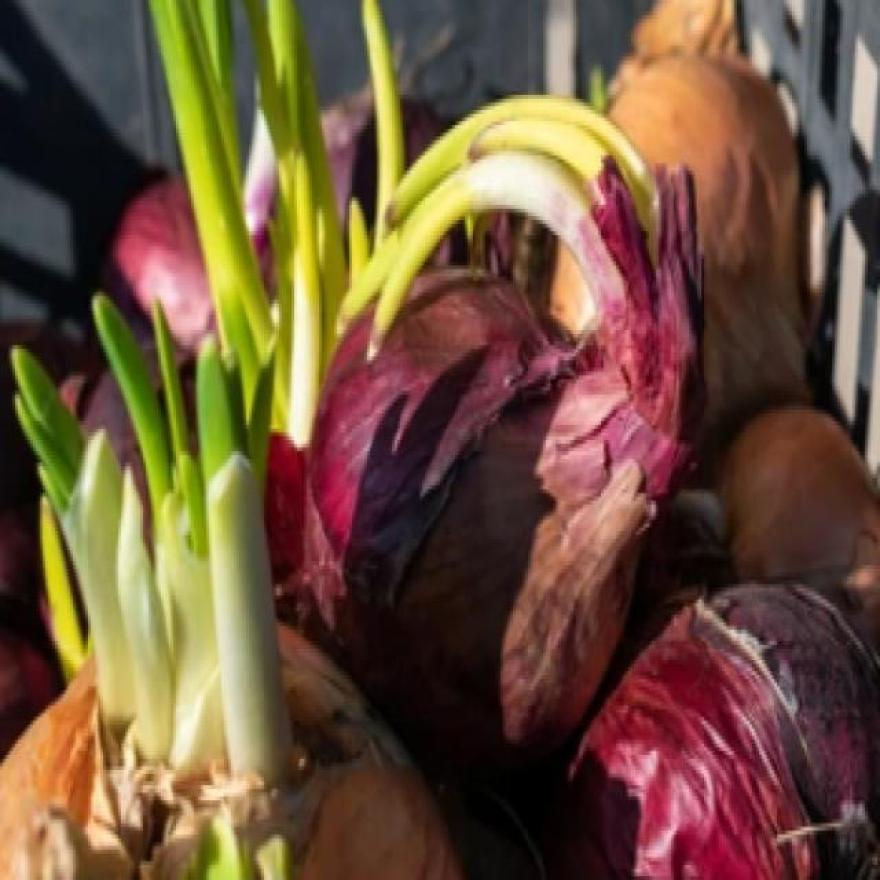Rotten: (702, 569, 857, 759)
Sprouted: (48, 444, 279, 762), (450, 133, 684, 428)
